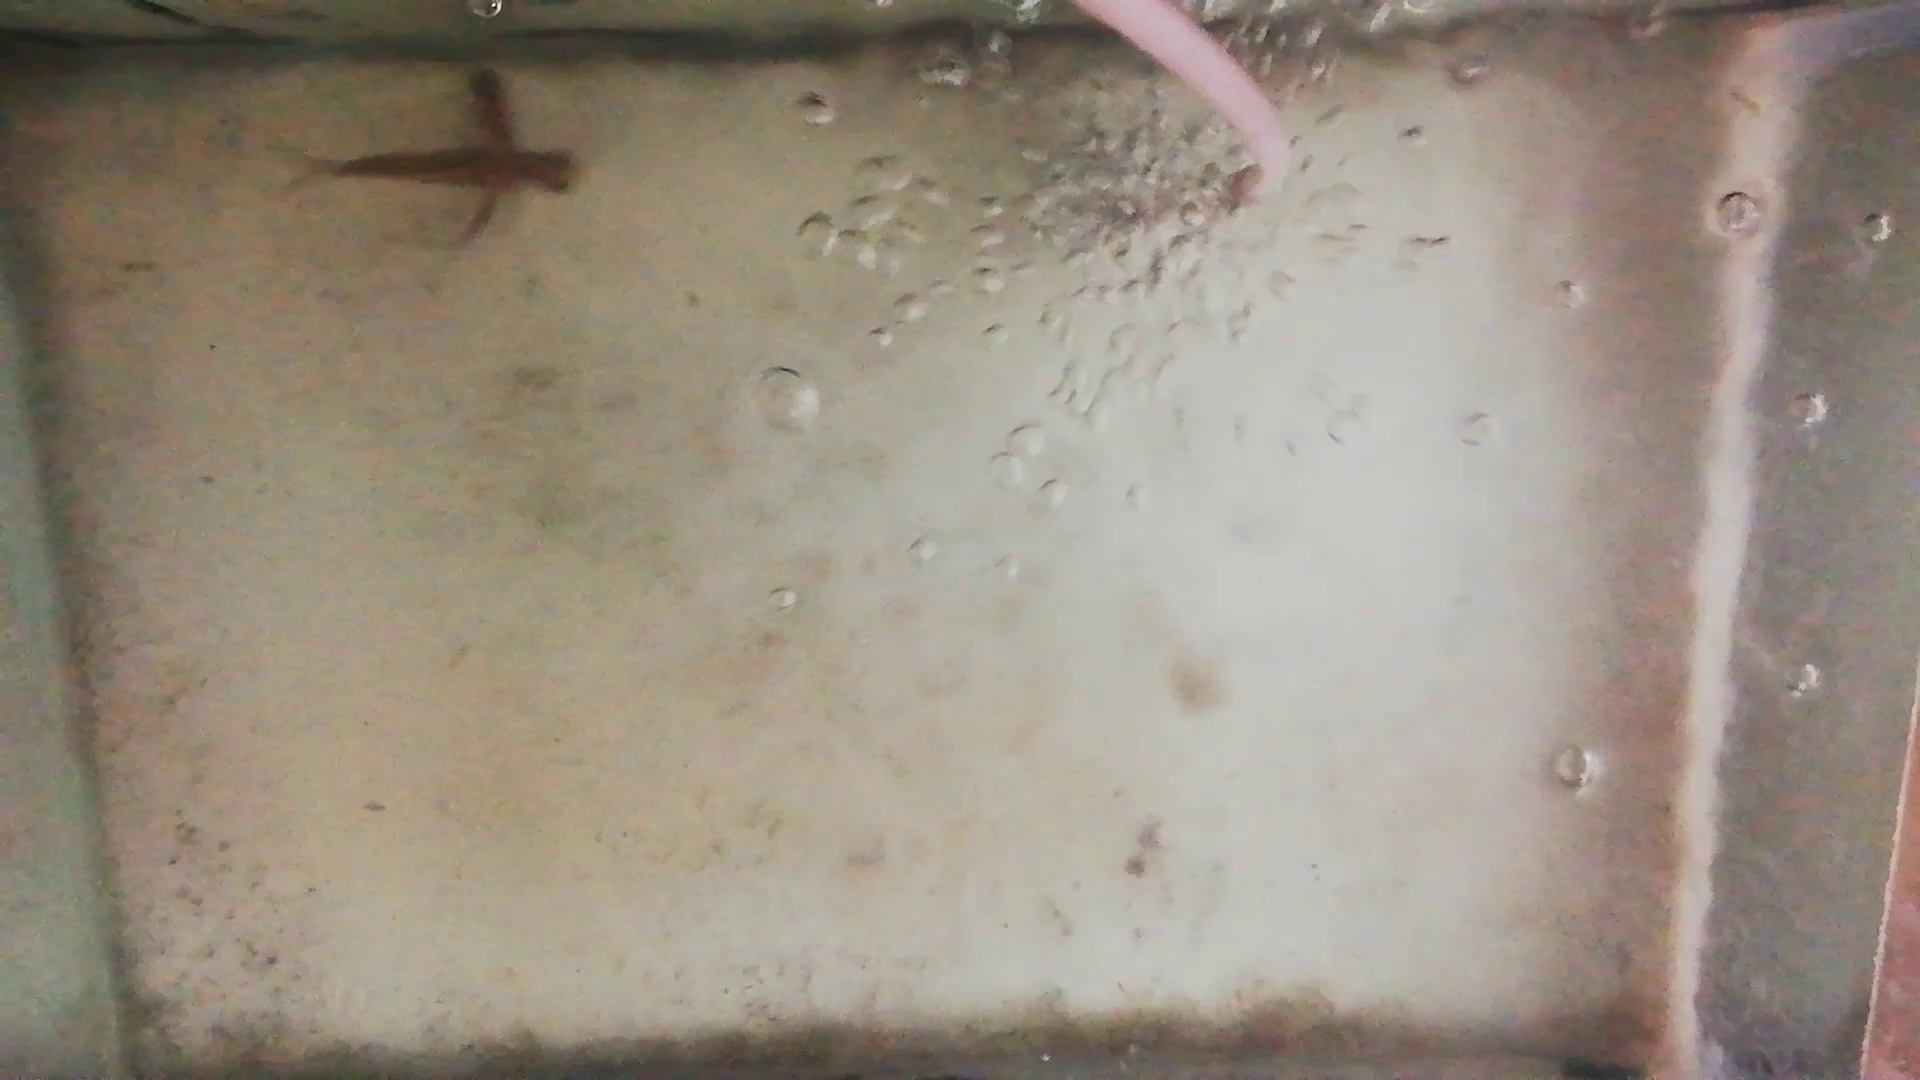fish: (451, 66, 517, 258), (324, 150, 589, 196)
